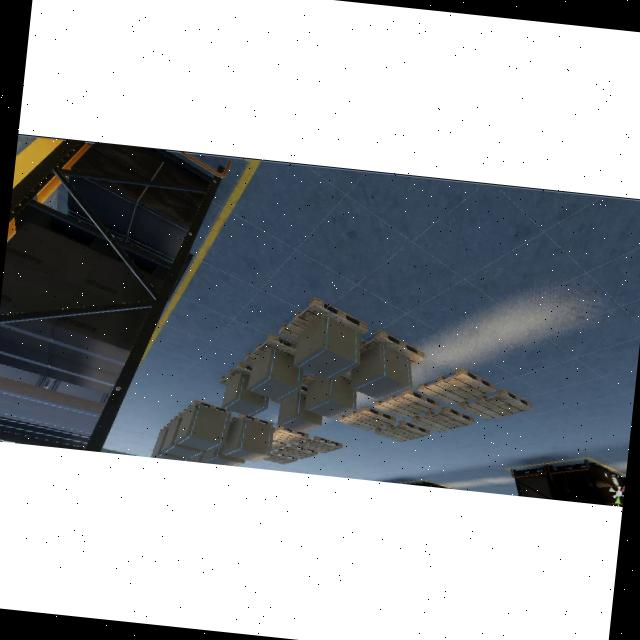wooden_pallet: (278, 297, 369, 341), (417, 367, 495, 405), (458, 388, 533, 421), (359, 329, 426, 361), (373, 389, 440, 420), (410, 406, 474, 432), (244, 333, 296, 364), (338, 406, 396, 431), (373, 420, 430, 442), (297, 436, 344, 453), (272, 425, 309, 444)
